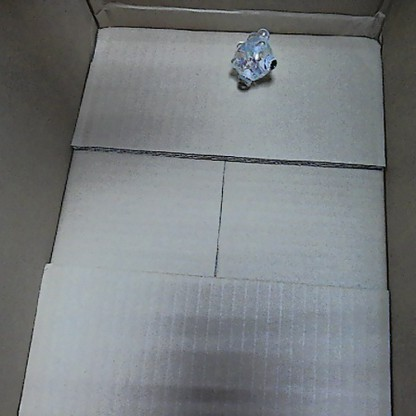whitefish: (226, 25, 279, 91)
